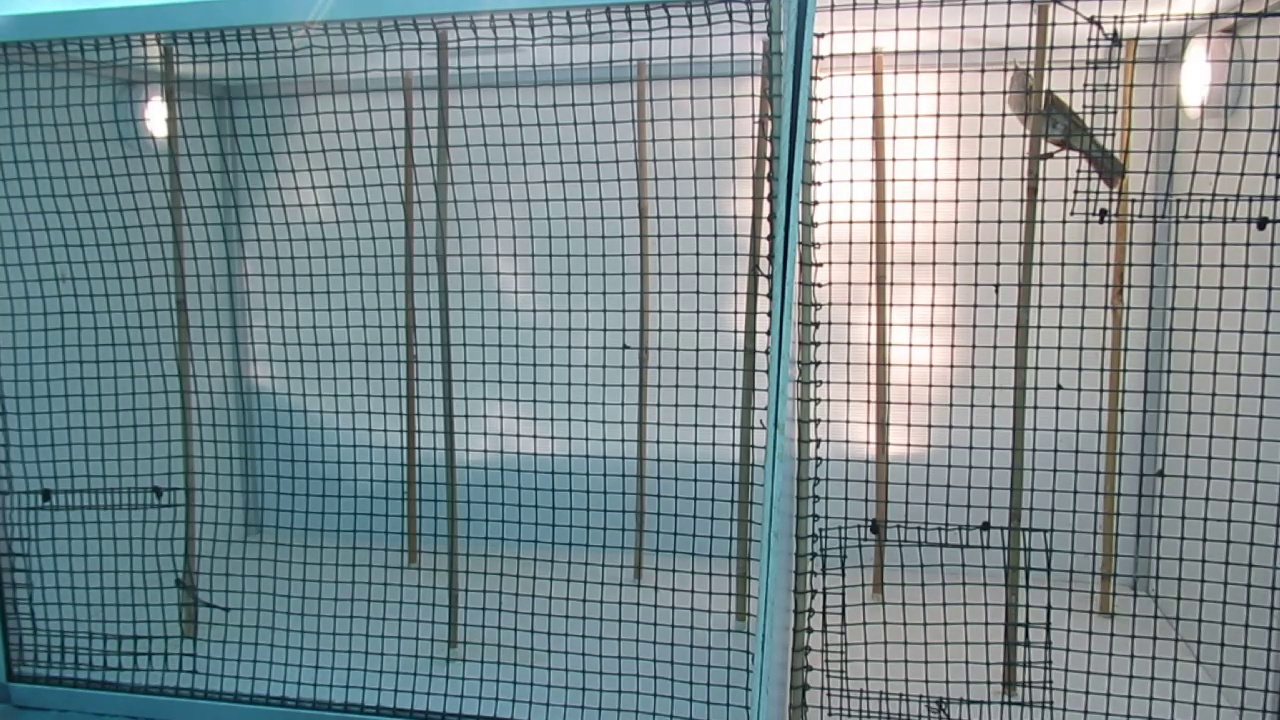bird: (1010, 61, 1117, 189)
stick: (1002, 13, 1053, 684), (1093, 45, 1139, 605), (733, 46, 777, 617), (161, 49, 200, 630), (431, 32, 460, 643), (866, 59, 890, 588), (401, 78, 421, 564), (634, 62, 652, 577)
